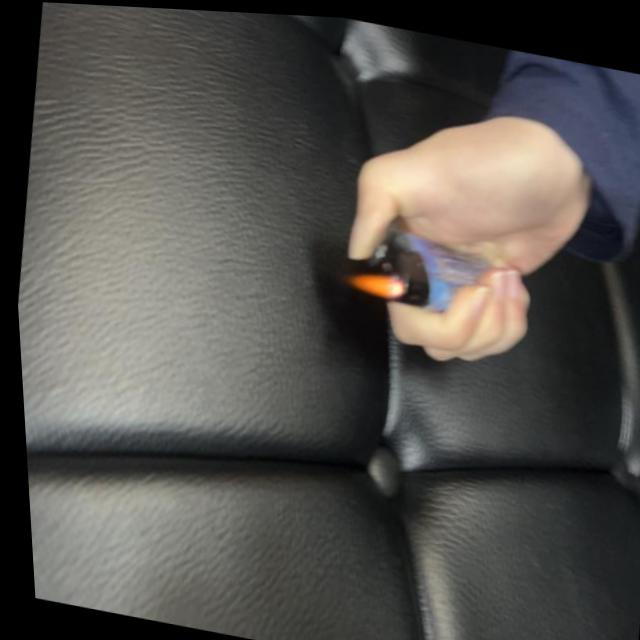Fire: (339, 261, 405, 301)
